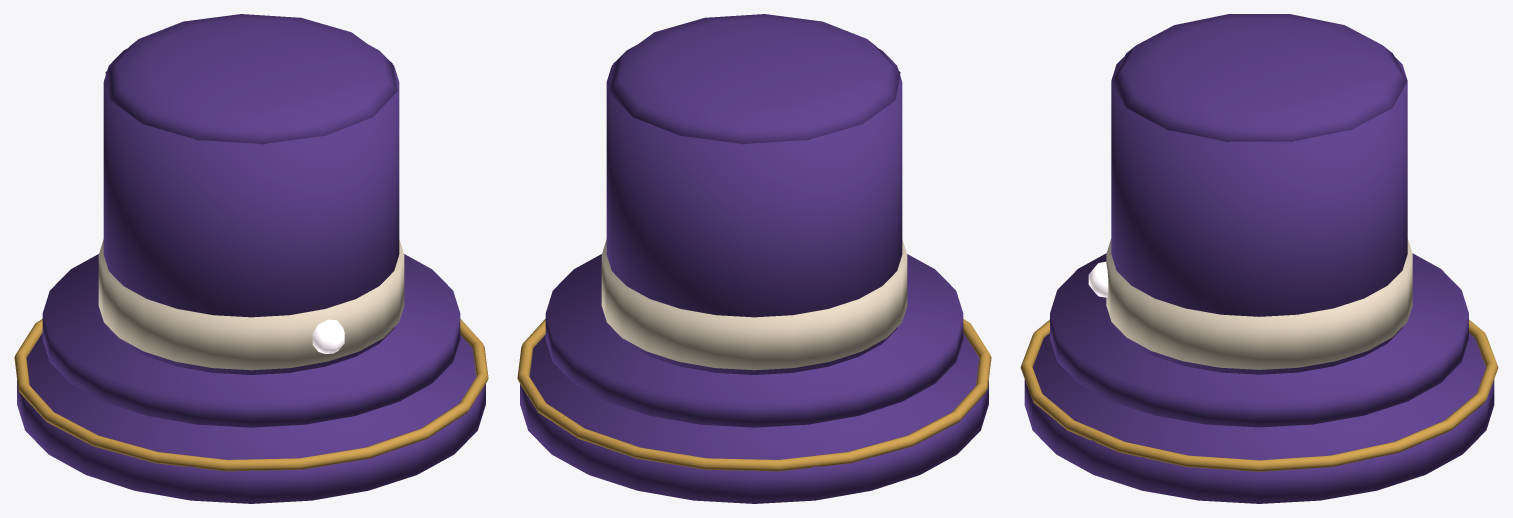
Rendered from opera_magician_hat_2.glb.
3 renders of one model, left to right at view 1: azimuth 30°, elevation 25°; view 2: azimuth 150°, elevation 25°; view 3: azimuth 270°, elevation 25°, orthographic.
Parts seen in each view (by area): view 1: VisualMesh.002; view 2: VisualMesh.002; view 3: VisualMesh.002.
Boxes of the visible parts, x1,y1,x2,y2 form: VisualMesh.002: (14, 14, 488, 503); VisualMesh.002: (517, 14, 991, 503); VisualMesh.002: (1020, 14, 1498, 503).
Size of the model in its own units: 4.68 by 3.79 by 4.68.
